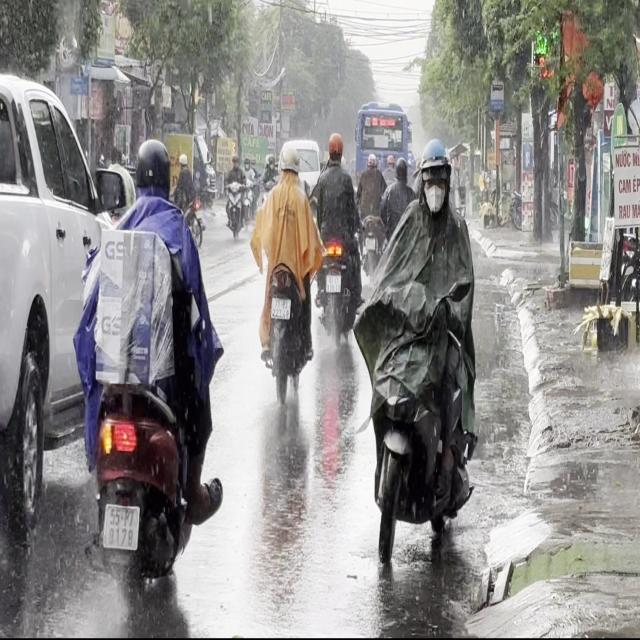helmet: (417, 135, 451, 212), (132, 136, 171, 200), (278, 140, 299, 178), (326, 131, 344, 163)
licenseplate: (70, 131, 225, 628), (356, 128, 484, 590), (250, 138, 319, 402), (311, 129, 362, 345)
nohelmet: (102, 504, 138, 548), (270, 297, 290, 318), (326, 274, 340, 292)
